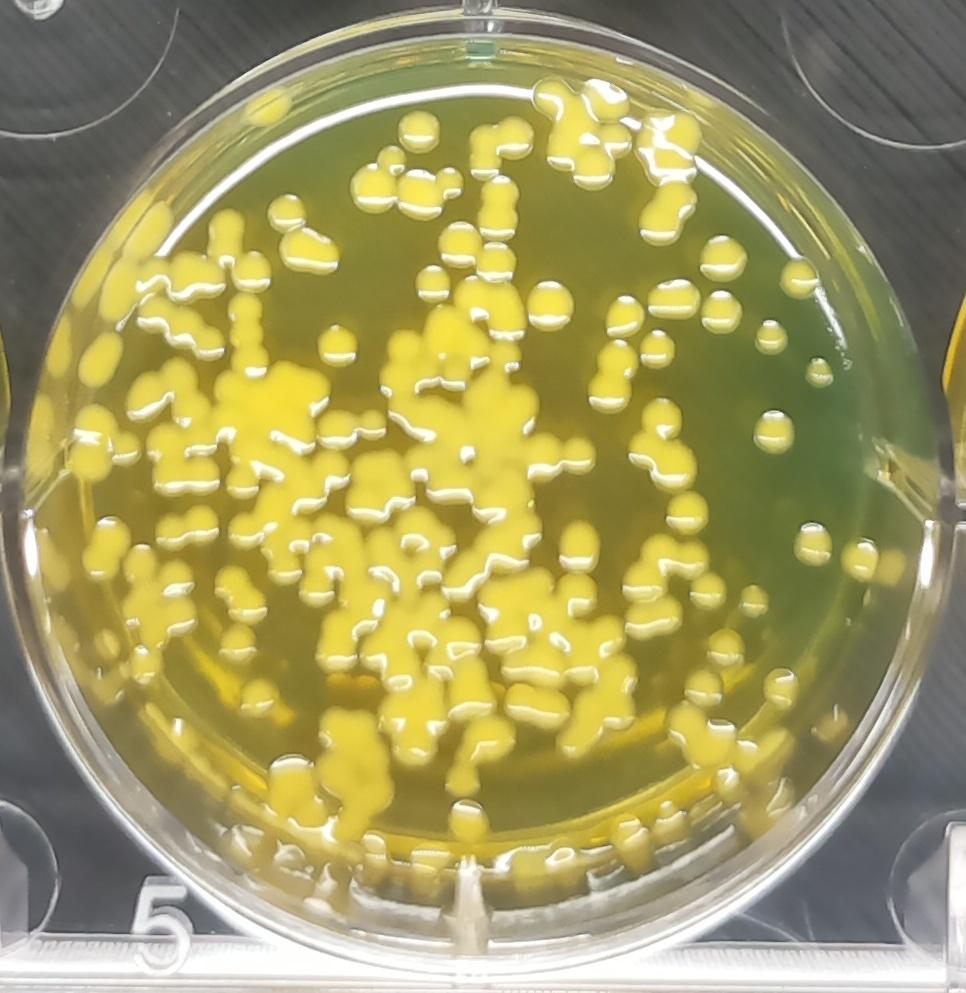ahydrophila: (315, 698, 394, 844), (374, 685, 453, 774), (65, 400, 142, 482), (133, 295, 228, 361), (662, 702, 746, 772), (347, 447, 417, 525), (624, 427, 703, 491), (263, 749, 323, 824), (635, 180, 701, 248), (502, 680, 578, 733), (275, 227, 352, 278), (226, 292, 269, 381), (523, 273, 579, 340), (523, 273, 580, 336), (746, 400, 802, 464), (78, 516, 130, 584), (214, 559, 268, 623), (152, 455, 221, 504), (168, 246, 227, 302), (695, 230, 756, 284), (436, 541, 490, 602), (311, 606, 358, 672), (643, 271, 703, 321), (554, 513, 602, 574), (119, 367, 171, 423), (658, 491, 718, 537), (434, 219, 485, 273), (791, 518, 839, 575), (447, 794, 497, 847), (315, 319, 363, 374), (600, 287, 648, 341), (775, 254, 825, 305), (153, 354, 203, 405), (757, 663, 804, 716), (699, 290, 747, 339), (681, 665, 730, 713), (228, 247, 277, 295), (204, 206, 248, 259), (639, 393, 687, 441), (471, 239, 524, 282), (436, 759, 491, 800), (263, 188, 308, 238), (554, 571, 602, 617), (310, 407, 358, 452), (154, 554, 202, 599), (411, 260, 454, 310), (181, 502, 223, 551), (223, 506, 265, 555), (117, 538, 157, 588), (748, 312, 792, 357), (217, 624, 260, 668), (224, 459, 264, 504), (264, 550, 305, 591), (294, 568, 337, 607), (801, 354, 839, 396), (151, 512, 187, 554), (355, 406, 395, 443)
